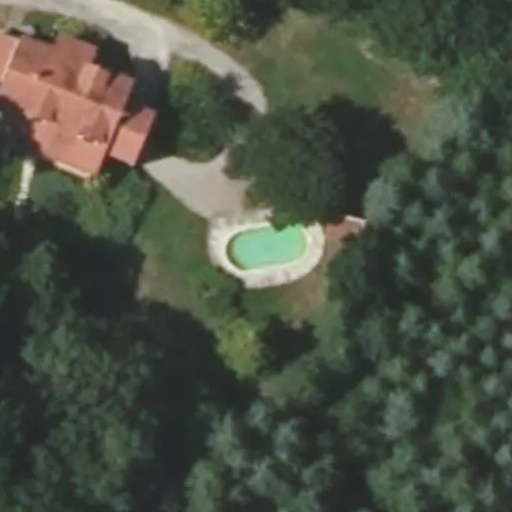pool: (213, 225, 298, 258)
